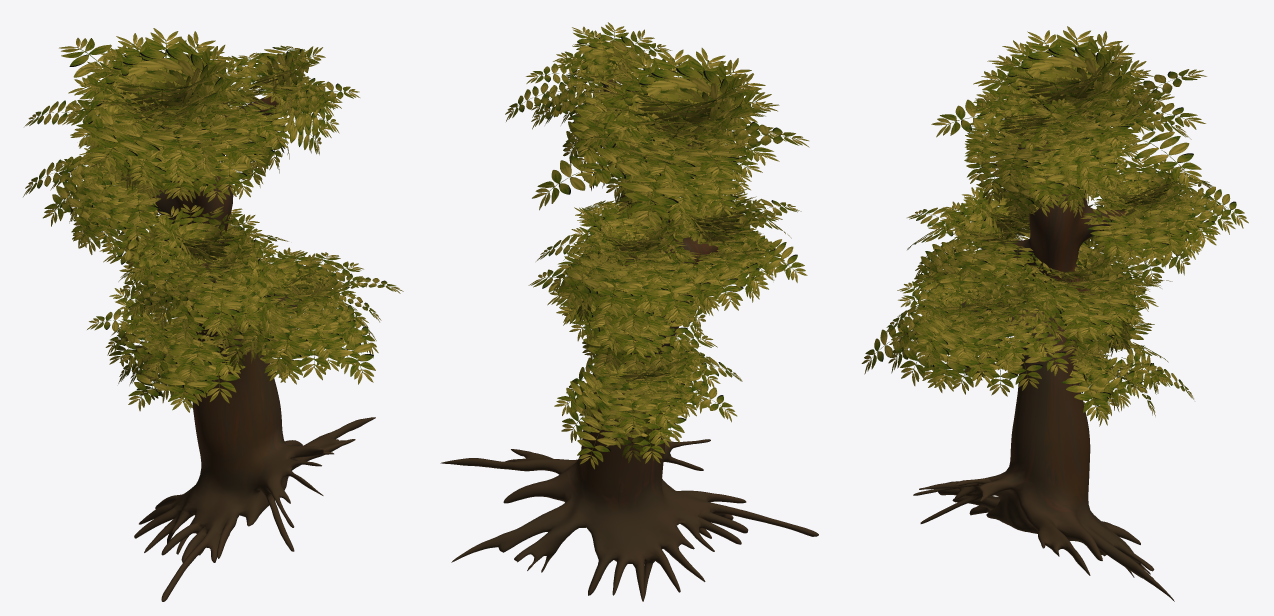
File: Tree_Foliage.fbx
3 renders of one model, left to right at view 1: azimuth 30°, elevation 25°; view 2: azimuth 150°, elevation 25°; view 3: azimuth 270°, elevation 25°, orthographic. The views are drawn at different scales.
Visible parts, largest first — view 1: Foliage, Merged_Tree_roots42; view 2: Foliage, Merged_Tree_roots42; view 3: Foliage, Merged_Tree_roots42.
Part boxes in pixels (bbox=[...]): Foliage: bbox=[23, 28, 403, 412]; Merged_Tree_roots42: bbox=[134, 93, 375, 601]; Foliage: bbox=[505, 22, 809, 469]; Merged_Tree_roots42: bbox=[440, 79, 818, 601]; Foliage: bbox=[861, 26, 1248, 426]; Merged_Tree_roots42: bbox=[913, 126, 1174, 601].
Size of the model in its own units: 0.4778 by 0.6756 by 0.4953.
